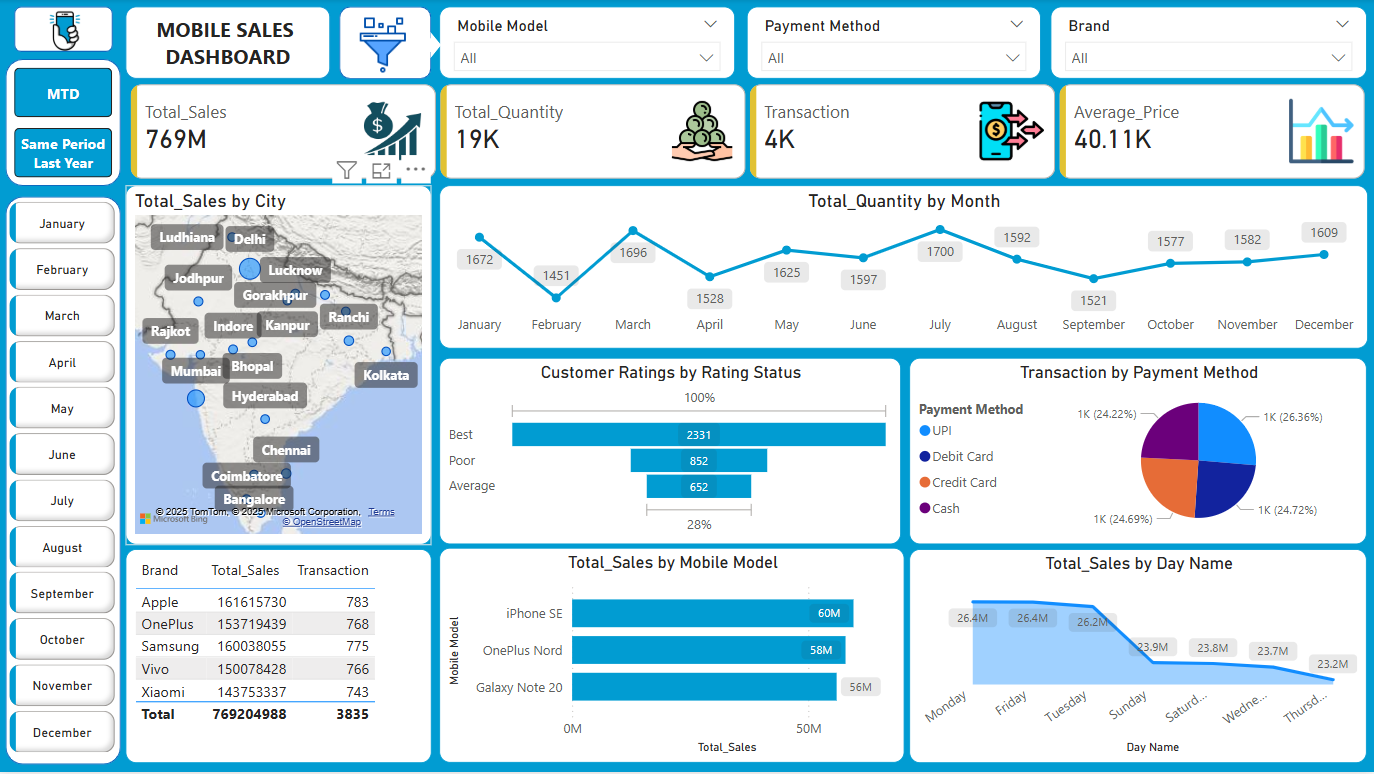

What the dashboard file says about the page in this screenshot:
{"tool":"powerbi","page":{"name":"Dashboard","canvas":[1280,720],"ordinal":0},"visuals":[{"type":"shape","box":[15.7,7.2,91.7,42.2],"z":0},{"type":"image","box":[6,1.2,112.2,56.7],"z":1000},{"type":"shape","box":[7.2,183.4,107.4,528.4],"z":2000},{"type":"shape","box":[7.2,55.5,107.4,118.2],"z":3000},{"type":"advancedSlicerVisual","fields":{"Values":["Custom_Calendar.Date.Variation.Date Hierarchy.Month"]},"box":[6,183.4,108.6,527.2],"z":4000},{"type":"cardVisual","fields":{"Data":["Sales Data.Total_Sales","Sales Data.Total_Quantity","Sales Data.Transaction","Sales Data.Average_Price"]},"box":[118.2,74.8,1161.8,98.9],"z":5000},{"type":"slicer","fields":{"Values":["Sales Data.Mobile Model"]},"box":[410.2,7.2,275.1,67.6],"z":6000},{"type":"slicer","fields":{"Values":["Sales Data.Payment Method"]},"box":[696.1,7.2,273.9,67.6],"z":7000},{"type":"slicer","fields":{"Values":["Sales Data.Brand"]},"box":[979.6,7.2,294.4,67.6],"z":8000},{"type":"shape","box":[317.3,7.2,85.7,67.6],"z":9000},{"type":"image","box":[326.9,12.1,62.7,62.7],"z":10000},{"type":"shape","box":[392.1,30.2,20.5,25.3],"z":11000},{"type":"shape","box":[118.2,7.2,190.6,67.6],"z":12000},{"type":"textbox","box":[118.2,7.2,190.6,67.6],"z":13000},{"type":"lineChart","fields":{"Y":["Sales Data.Total_Quantity"],"Category":["Custom_Calendar.Date.Variation.Date Hierarchy.Month"]},"box":[410.2,173.7,863.8,152],"z":14000},{"type":"funnel","title":"Customer Ratings by Rating Status","fields":{"Y":["CountNonNull(Sales Data.Customer Ratings)"],"Category":["Sales Data.Rating Status"]},"box":[410.2,334.2,429.5,173.7],"z":15000},{"type":"pieChart","fields":{"Y":["Sales Data.Transaction"],"Category":["Sales Data.Payment Method"]},"box":[848.1,334.2,425.9,173.7],"z":16000},{"type":"clusteredBarChart","fields":{"Y":["Sales Data.Total_Sales"],"Category":["Sales Data.Mobile Model"]},"box":[410.2,510.3,433.1,200.3],"z":17000},{"type":"areaChart","fields":{"Y":["Sales Data.Total_Sales"],"Category":["Custom_Calendar.Day Name"]},"box":[848.1,511.5,425.9,199.1],"z":18000},{"type":"tableEx","fields":{"Values":["Sales Data.Brand","Sales Data.Total_Sales","Sales Data.Transaction"]},"box":[118.2,511.5,284.7,199.1],"z":19000},{"type":"pageNavigator","box":[15.7,63.9,91.7,103.8],"z":20000},{"type":"map","fields":{"Category":["Sales Data.City"],"Size":["Sales Data.Total_Sales"]},"box":[118.2,173.7,284.7,334.2],"z":21000}]}

Visuals, with their boxes in screenshot pixels (x1, y1, x2, y2), scaled from the page's 1280x720 canvas onto the 1374x774 screenshot:
shape: 17:8:115:53
image: 6:1:127:62
shape: 8:197:123:765
shape: 8:60:123:187
advancedSlicerVisual - Custom_Calendar.Date.Variation.Date Hierarchy.Month: 6:197:123:764
cardVisual - Sales Data.Total_Sales x Sales Data.Total_Quantity: 127:80:1373:187
slicer - Sales Data.Mobile Model: 440:8:736:80
slicer - Sales Data.Payment Method: 747:8:1041:80
slicer - Sales Data.Brand: 1052:8:1368:80
shape: 341:8:433:80
image: 351:13:418:80
shape: 421:32:443:60
shape: 127:8:331:80
textbox: 127:8:331:80
lineChart - Sales Data.Total_Quantity x Custom_Calendar.Date.Variation.Date Hierarchy.Month: 440:187:1368:350
"Customer Ratings by Rating Status" funnel: 440:359:901:546
pieChart - Sales Data.Transaction x Sales Data.Payment Method: 910:359:1368:546
clusteredBarChart - Sales Data.Total_Sales x Sales Data.Mobile Model: 440:549:905:764
areaChart - Sales Data.Total_Sales x Custom_Calendar.Day Name: 910:550:1368:764
tableEx - Sales Data.Brand x Sales Data.Total_Sales: 127:550:432:764
pageNavigator: 17:69:115:180
map - Sales Data.City x Sales Data.Total_Sales: 127:187:432:546
